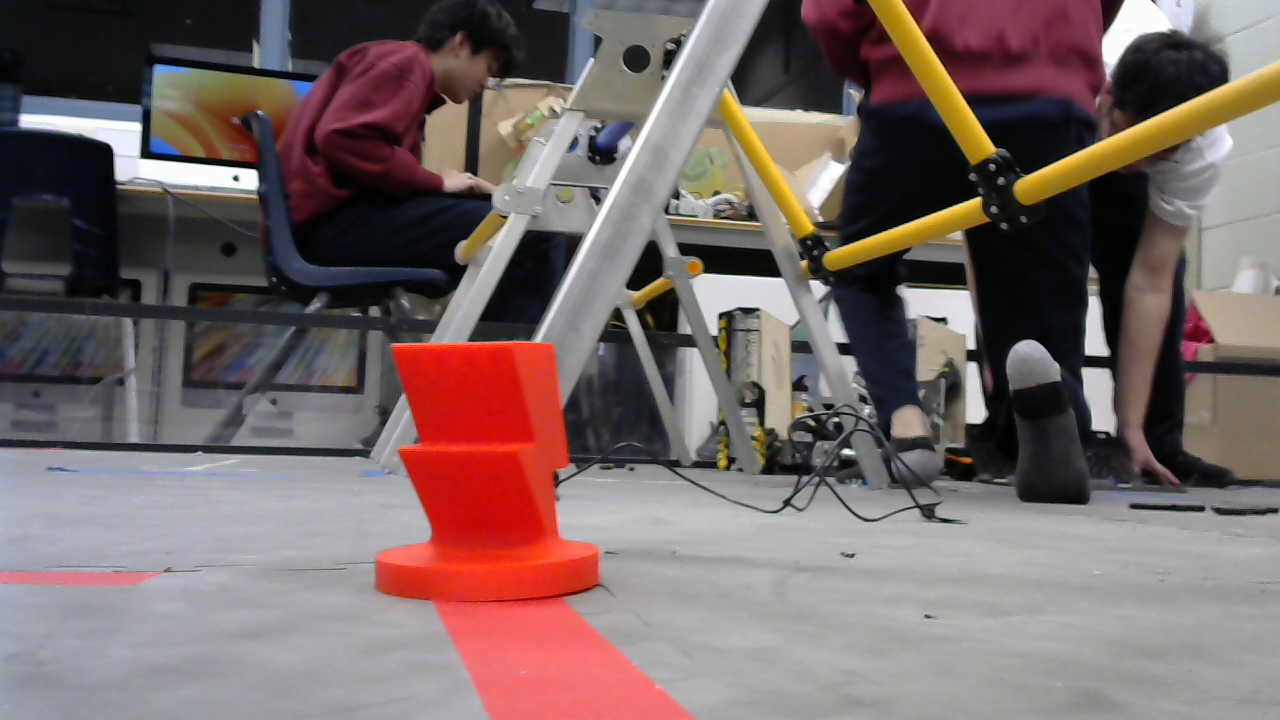redobject: (372, 333, 605, 606)
